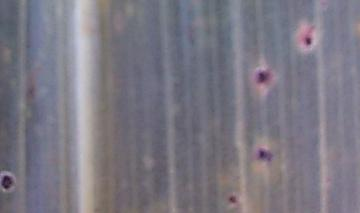tarspot: (257, 146, 274, 163), (256, 70, 271, 84), (2, 175, 13, 192), (227, 194, 238, 205), (305, 37, 312, 46)
